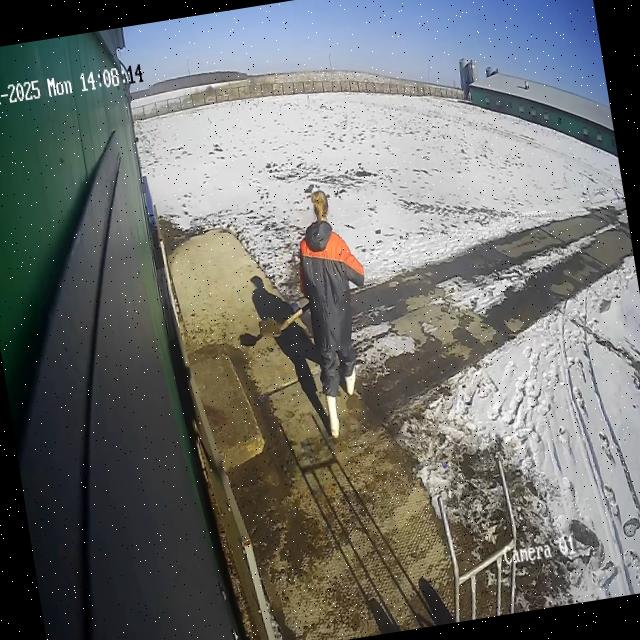Red uniform: (300, 220, 364, 396)
